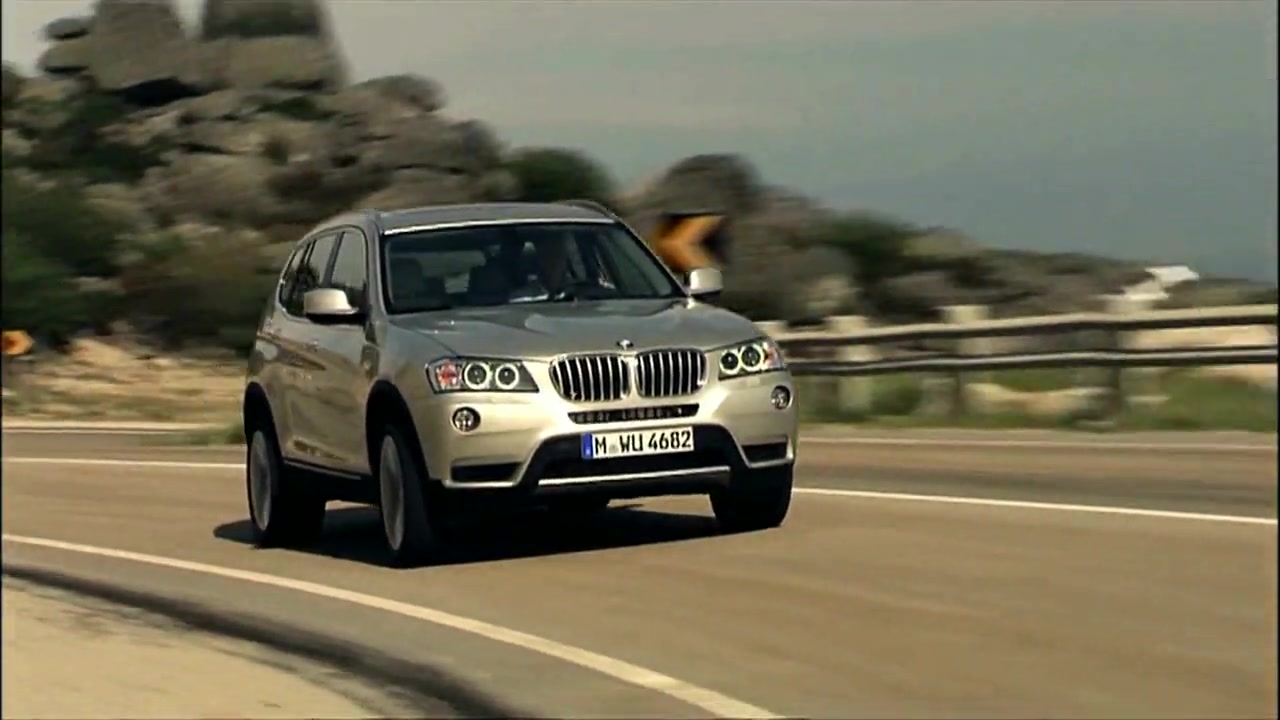car: (238, 195, 801, 564)
